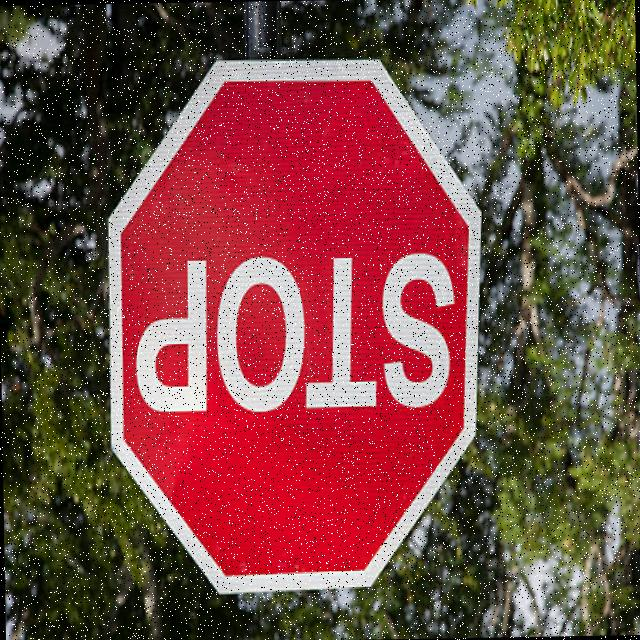stop: (94, 44, 492, 603)
